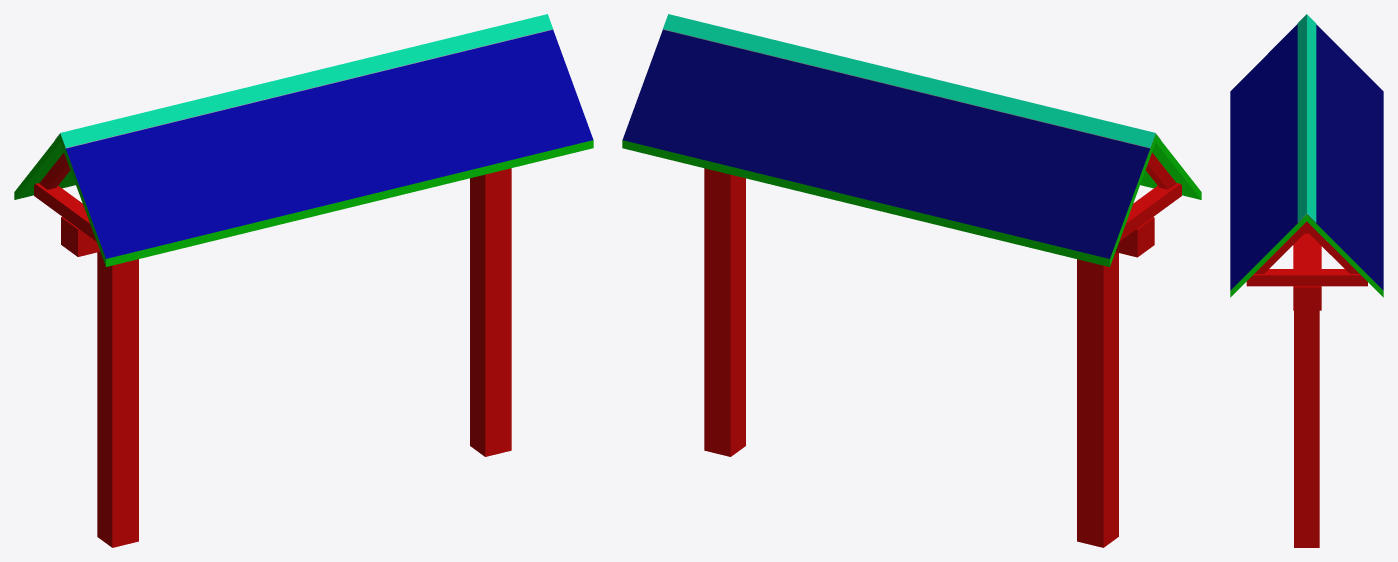
Rendered from Lighthouse_Building_F.fbx.
The picture shows the model from 3 angles, left to right: view 1: azimuth 30°, elevation 25°; view 2: azimuth 150°, elevation 25°; view 3: azimuth 270°, elevation 25°; orthographic projection. The views are drawn at different scales.
Visible parts, largest first — view 1: Lighthouse_Building_F; view 2: Lighthouse_Building_F; view 3: Lighthouse_Building_F.
Boxes of the visible parts, left/top/right/bottom form: Lighthouse_Building_F: left=14, top=14, right=593, bottom=547; Lighthouse_Building_F: left=622, top=14, right=1201, bottom=547; Lighthouse_Building_F: left=1230, top=14, right=1383, bottom=547.
Size of the model in its own units: 515 by 425 by 168.
